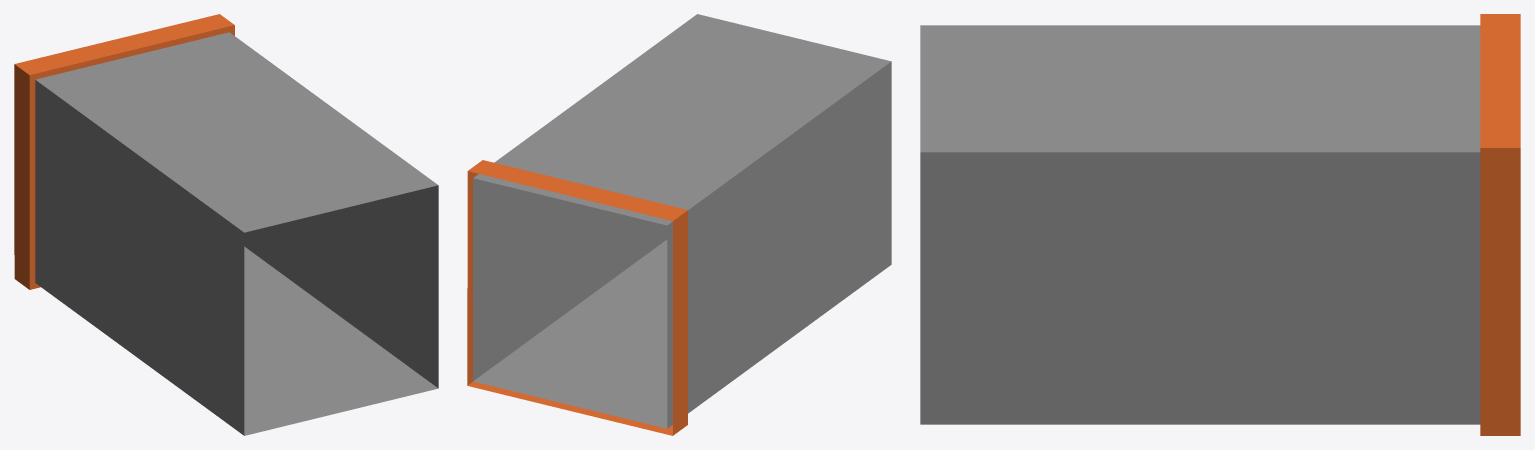
The model's file is Interior_column1.fbx.
3 views of the same model, side by side, from view 1: azimuth 30°, elevation 25°; view 2: azimuth 150°, elevation 25°; view 3: azimuth 270°, elevation 25° (orthographic). The views are drawn at different scales.
Visible parts, largest first — view 1: Interior_column1; view 2: Interior_column1; view 3: Interior_column1.
Part boxes in pixels (x1=…): Interior_column1: x1=14, y1=14, x2=438, y2=435; Interior_column1: x1=467, y1=14, x2=891, y2=435; Interior_column1: x1=920, y1=14, x2=1520, y2=435.
Bounding box in the file's own units: 41.67 × 78.74 × 41.61.
